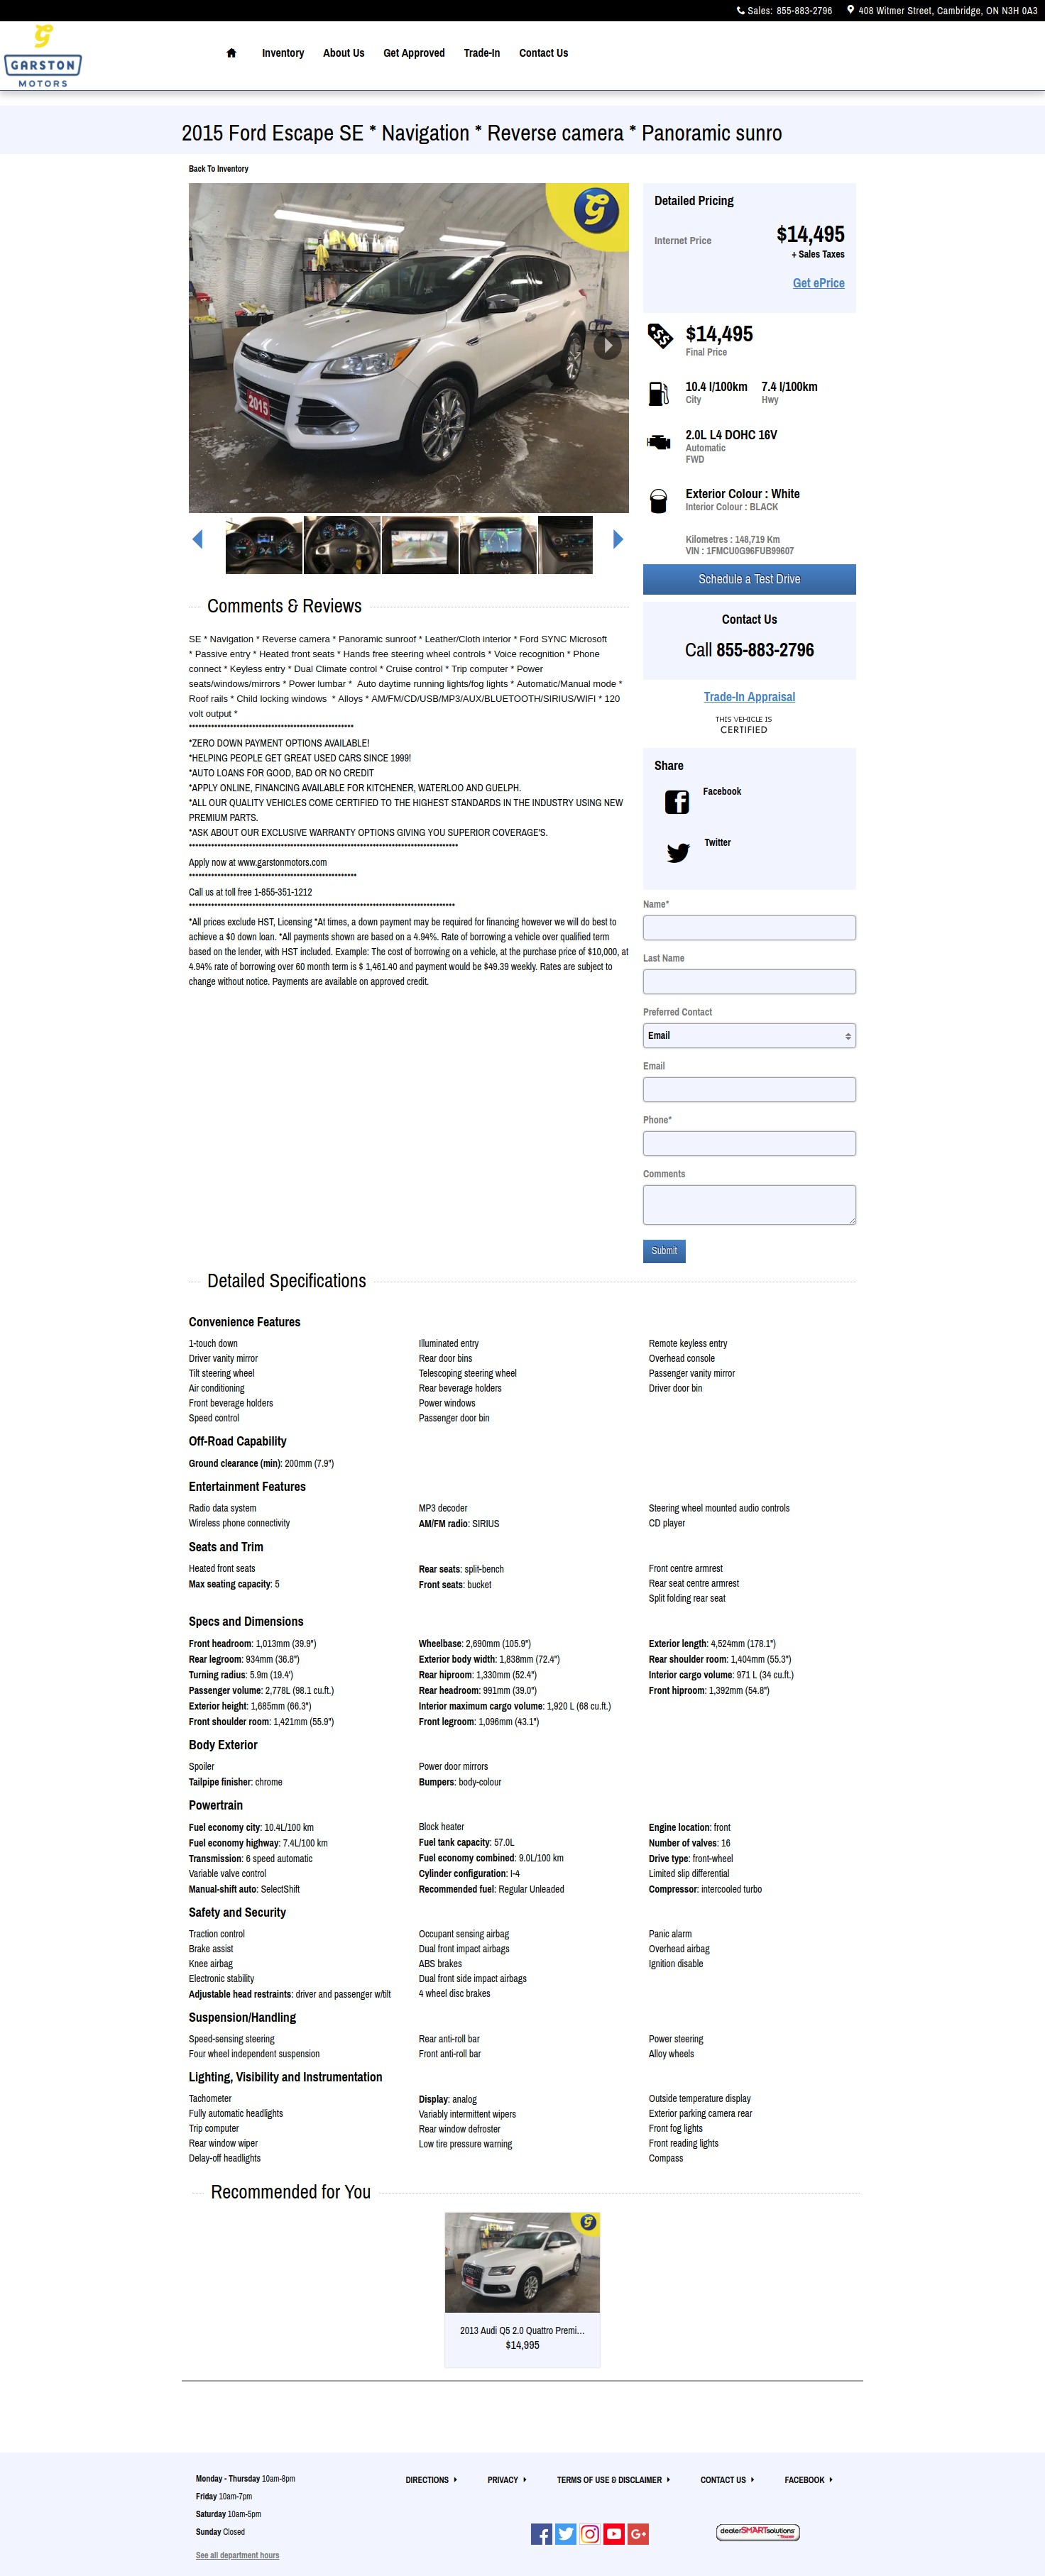car: (613, 529, 624, 550)
